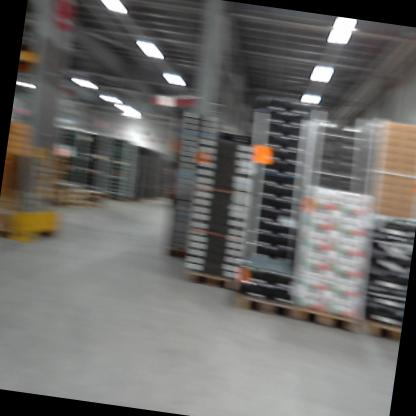pallet: (286, 293, 369, 338), (228, 289, 296, 324), (179, 265, 238, 295), (363, 315, 402, 343)
